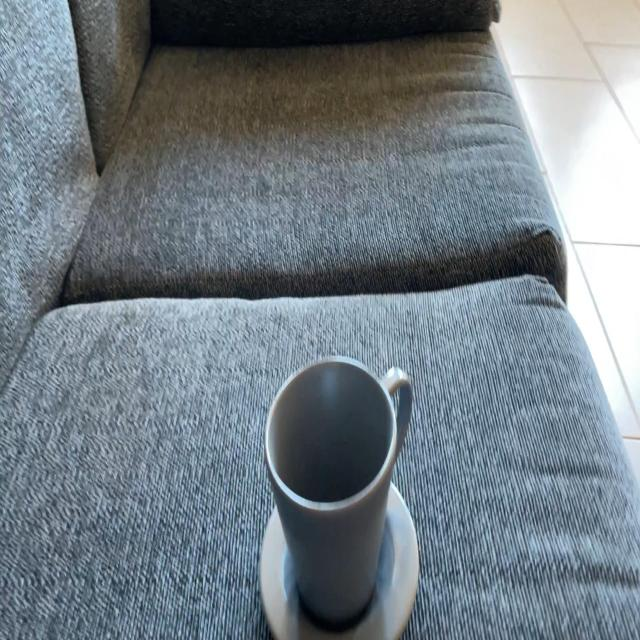cup: (260, 351, 408, 640)
